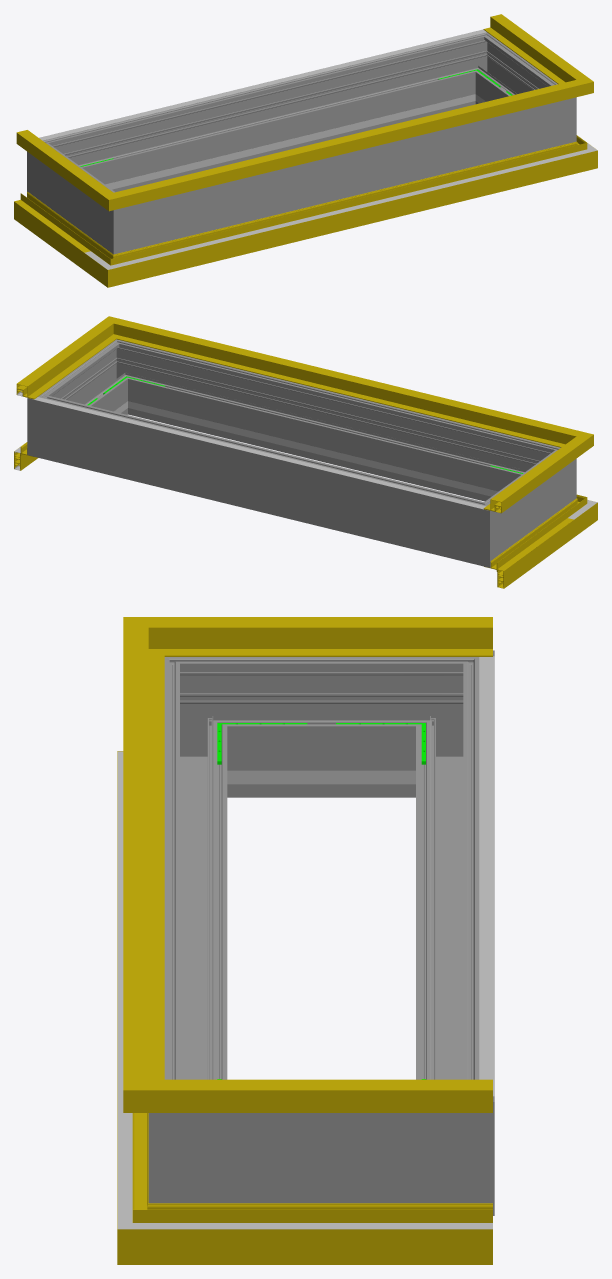
3 views of the same model, one above another, from view 1: azimuth 30°, elevation 25°; view 2: azimuth 150°, elevation 25°; view 3: azimuth 270°, elevation 25° (orthographic). The views are drawn at different scales.
Parts seen in each view (by area): view 1: 3DGeom-276, 3DGeom-298, 3DGeom-90, 3DGeom-123, 3DGeom-270, 3DGeom-244, 3DGeom-85, 3DGeom-284, 3DGeom-128, 3DGeom-290, 3DGeom-220, 3DGeom-297 (+9 smaller); view 2: 3DGeom-298, 3DGeom-276, 3DGeom-123, 3DGeom-278, 3DGeom-284, 3DGeom-85, 3DGeom-239, 3DGeom-290, 3DGeom-128, 3DGeom-297, 3DGeom-220, 3DGeom-118 (+7 smaller); view 3: 3DGeom-276, 3DGeom-298, 3DGeom-268, 3DGeom-123, 3DGeom-97, 3DGeom-297, 3DGeom-118, 3DGeom-128, 3DGeom-284, 3DGeom-290, 3DGeom-278, 3DGeom-270 (+10 smaller).
Boxes of the visible parts, x1,y1,x2,y2 form: 3DGeom-276: (72, 40, 468, 192); 3DGeom-298: (154, 107, 535, 244); 3DGeom-90: (141, 148, 556, 277); 3DGeom-123: (143, 87, 552, 201); 3DGeom-270: (90, 183, 154, 254); 3DGeom-244: (120, 104, 436, 187); 3DGeom-85: (14, 191, 97, 270); 3DGeom-284: (453, 32, 506, 105); 3DGeom-128: (483, 14, 569, 79); 3DGeom-290: (535, 75, 576, 151); 3DGeom-220: (39, 29, 486, 140); 3DGeom-297: (479, 46, 545, 101); 3DGeom-298: (135, 347, 531, 501); 3DGeom-276: (68, 402, 456, 557); 3DGeom-123: (139, 326, 552, 443); 3DGeom-278: (449, 490, 513, 567); 3DGeom-284: (27, 382, 75, 464); 3DGeom-85: (484, 510, 574, 588); 3DGeom-239: (167, 410, 483, 494); 3DGeom-290: (97, 339, 150, 415); 3DGeom-128: (16, 333, 103, 399); 3DGeom-297: (57, 354, 123, 413); 3DGeom-220: (33, 397, 485, 509); 3DGeom-118: (483, 449, 570, 513); 3DGeom-276: (416, 690, 494, 1079); 3DGeom-298: (164, 690, 227, 1079); 3DGeom-268: (243, 657, 400, 797); 3DGeom-123: (123, 657, 164, 1071); 3DGeom-97: (211, 1203, 492, 1264); 3DGeom-297: (243, 1113, 400, 1203); 3DGeom-118: (217, 617, 492, 656); 3DGeom-128: (217, 1079, 492, 1112); 3DGeom-284: (400, 1062, 494, 1215); 3DGeom-290: (148, 1062, 242, 1203); 3DGeom-278: (400, 650, 494, 797); 3DGeom-270: (164, 657, 242, 797).
Size of the model in its own units: 1.83 by 0.3069 by 0.6096.
